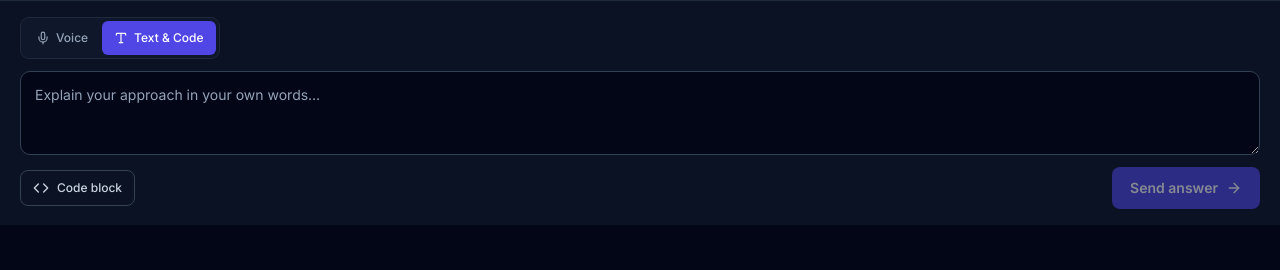
Test: tapping the microphone records, and tapping it again stops
This screenshot has width=1280, height=270.
Click the button "Voice" at (62,38), box [24,21,100,55]
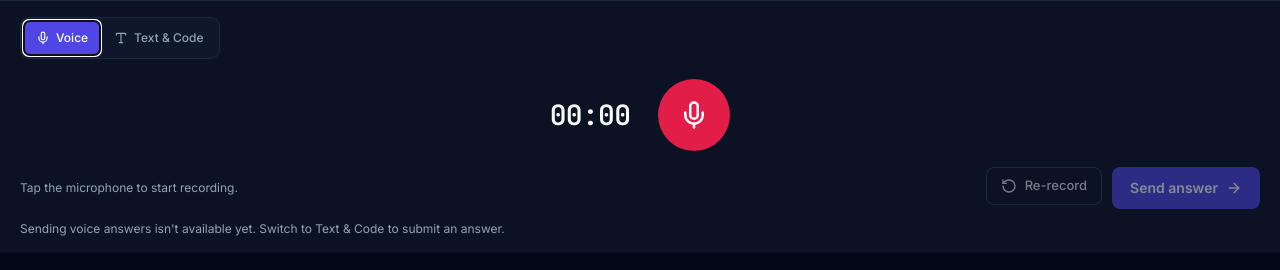
Click the button named "Start recording" at (694,115), box [658,79,730,151]
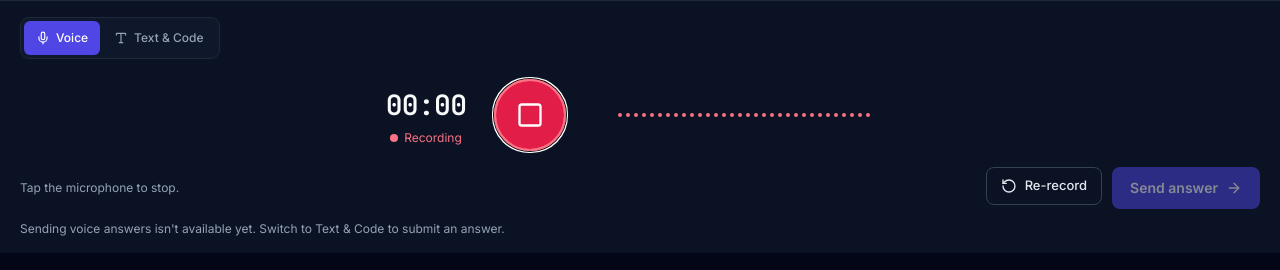
Result: the button named "Stop recording" is enabled
Result: the text "Recording" is shown at [390,130,462,146]
Click the button named "Stop recording" at (530,115), box [494,79,566,151]
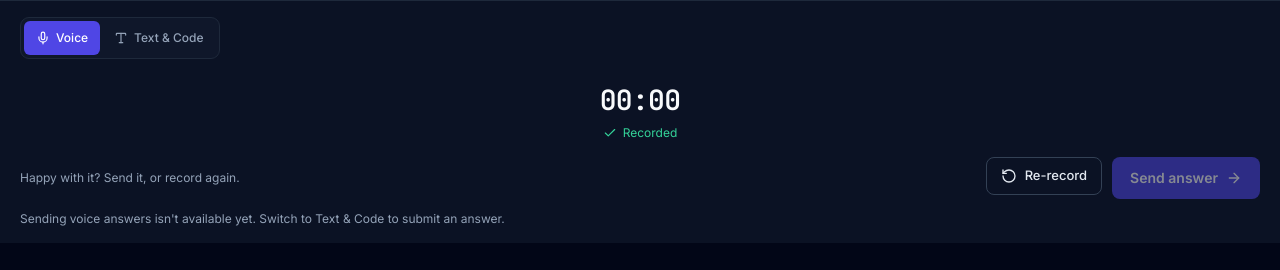
Expected: the button "Send answer" is disabled, [1112,157,1260,199]
Result: the text "Recorded" is shown at [603,125,677,141]
